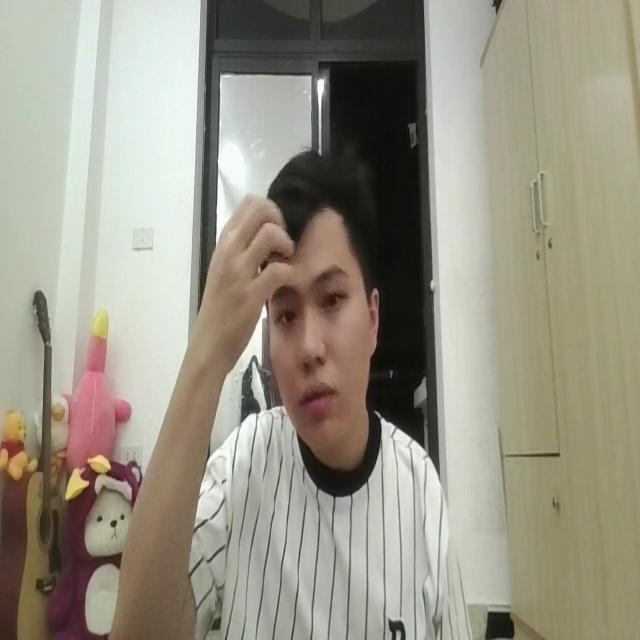student: (110, 143, 465, 640)
